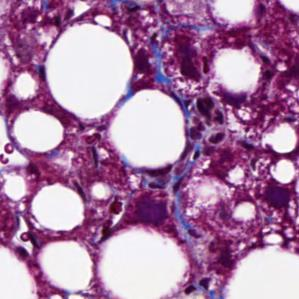inflammation: (185, 93, 230, 148), (176, 271, 221, 296)
